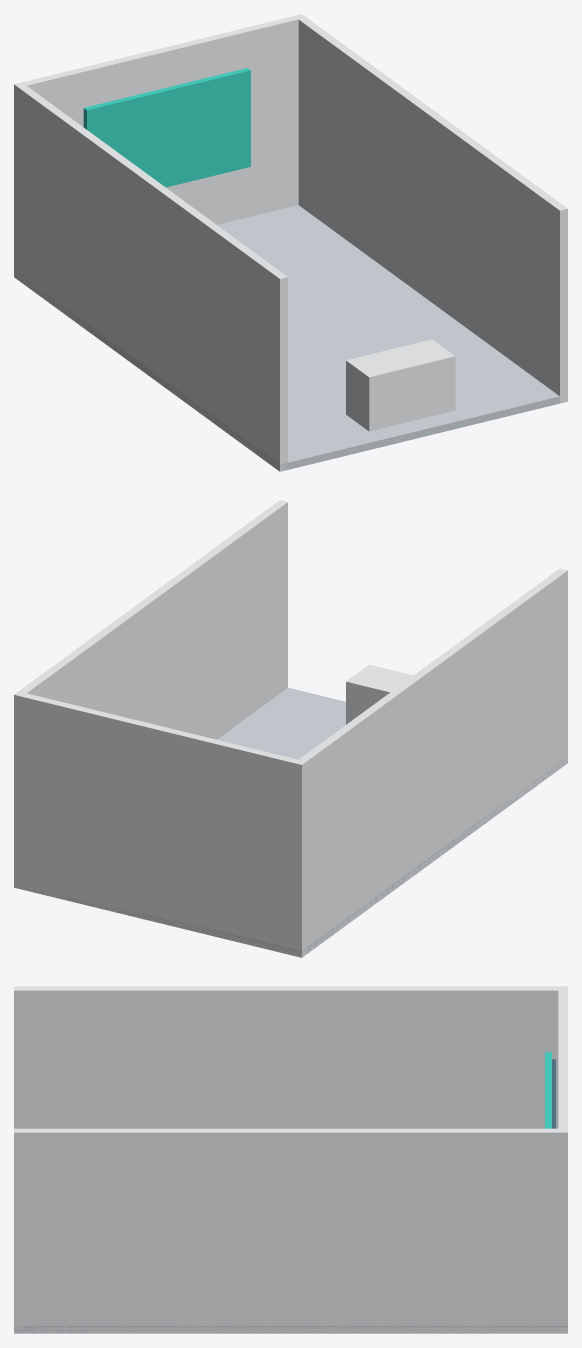
3 renders of one model, top to bottom at view 1: azimuth 30°, elevation 25°; view 2: azimuth 150°, elevation 25°; view 3: azimuth 270°, elevation 25°, orthographic. The views are drawn at different scales.
Visible parts, largest first — view 1: Exhibition Booth Concept; view 2: Exhibition Booth Concept; view 3: Exhibition Booth Concept.
Boxes of the visible parts, x1,y1,x2,y2 form: Exhibition Booth Concept: (14, 14, 567, 471); Exhibition Booth Concept: (14, 500, 567, 957); Exhibition Booth Concept: (14, 986, 567, 1333).
Size of the model in its own units: 5 by 3.2 by 8.
